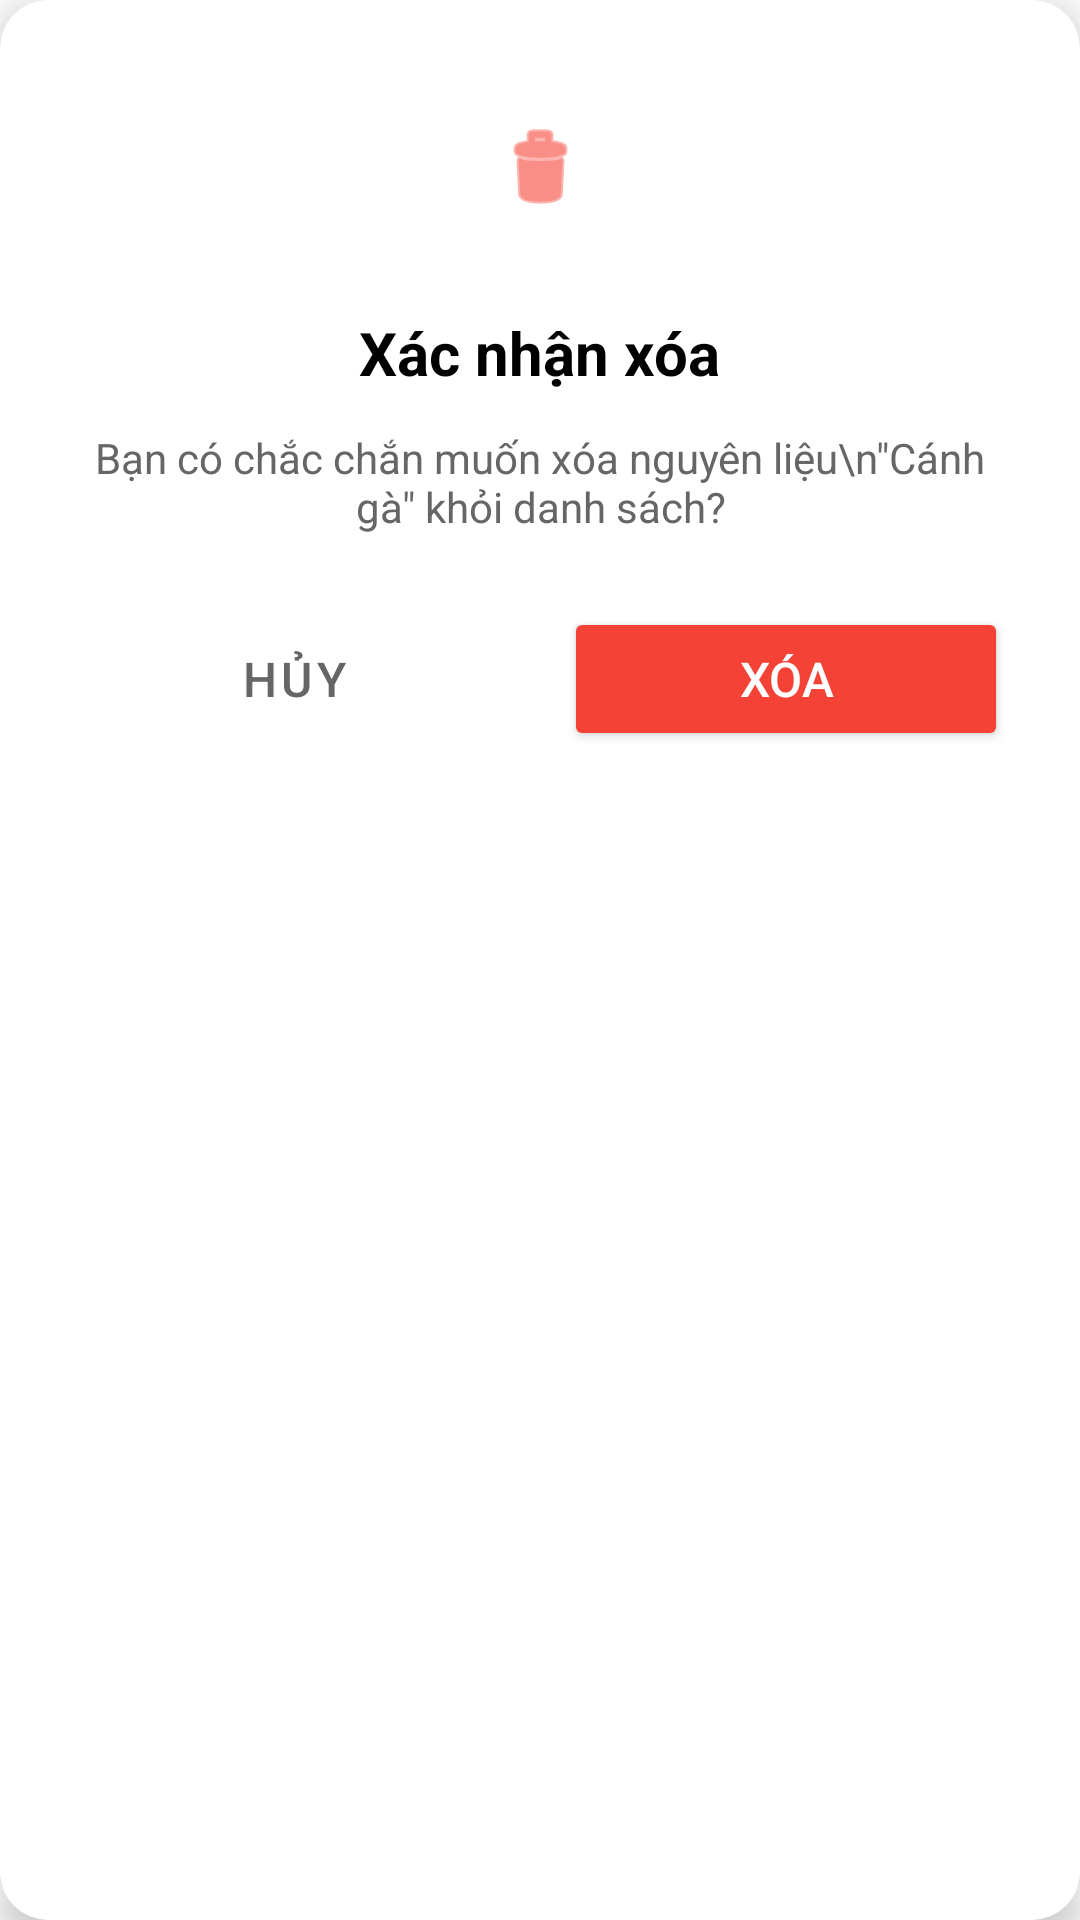

Where to tap for icons on this 1080*1920 app screen, as [x,y]:
Delete: [540,166]
